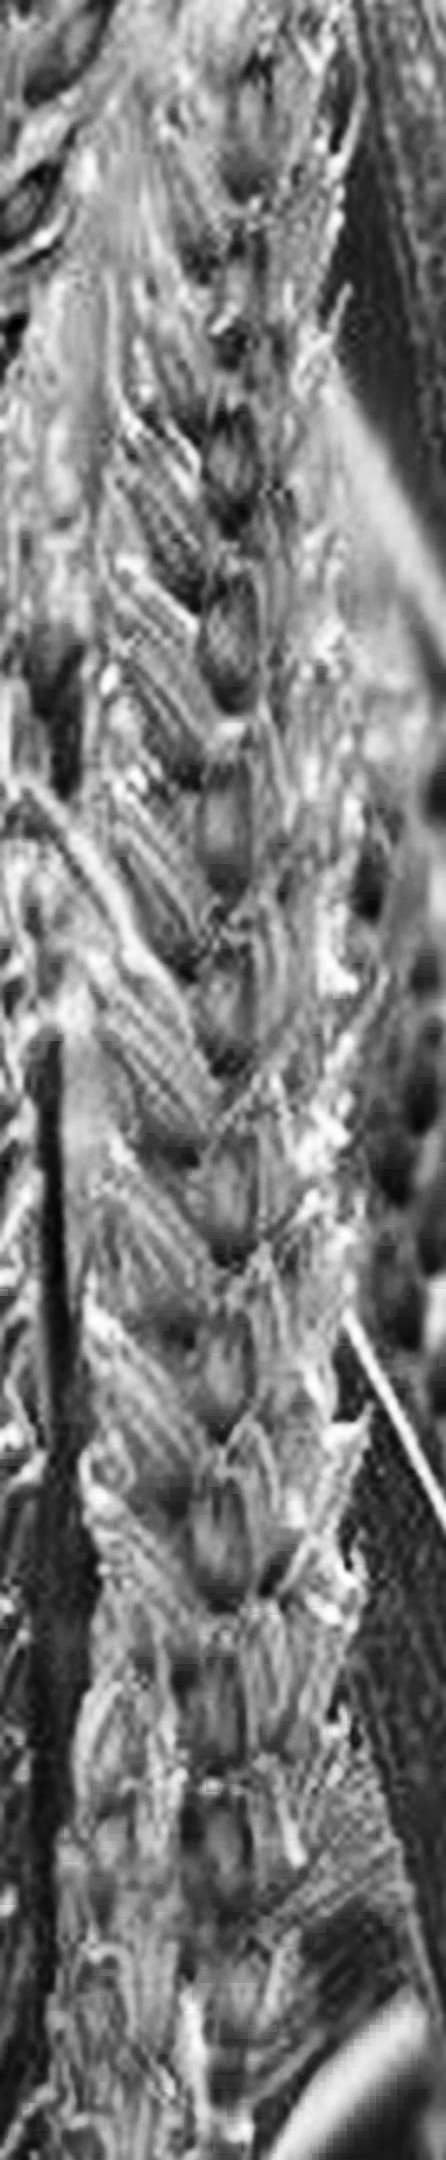Healthy Wheat: (67, 123, 446, 1891)
